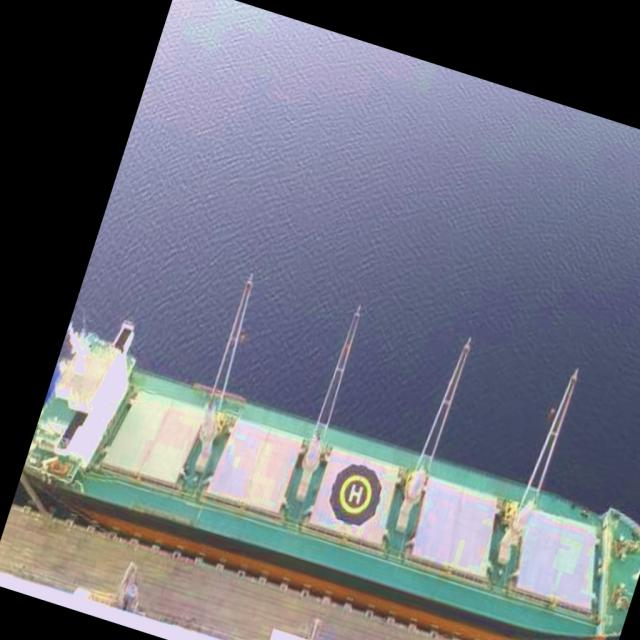helipad: (337, 472, 371, 514)
